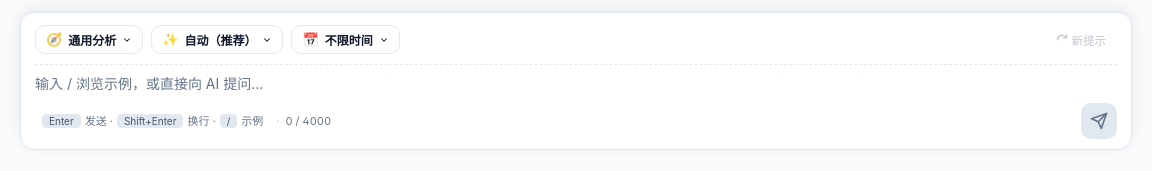
InputBar › clicking 新提示 clears input
In the text box: x=576, y=84 [35,73,1117,95], type "一些内容"
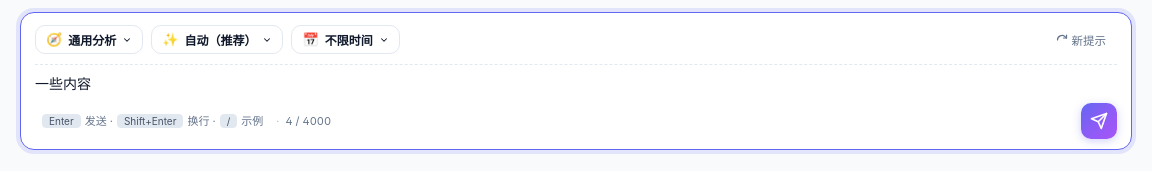
Click the button "新提示": x=1081, y=40 [1044,26,1117,54]
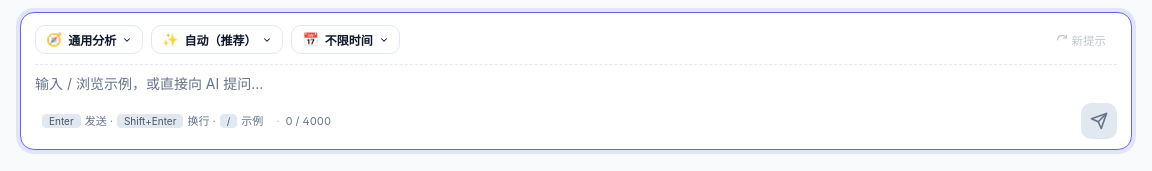
Result: the text box is empty at [35,73,1117,95]
